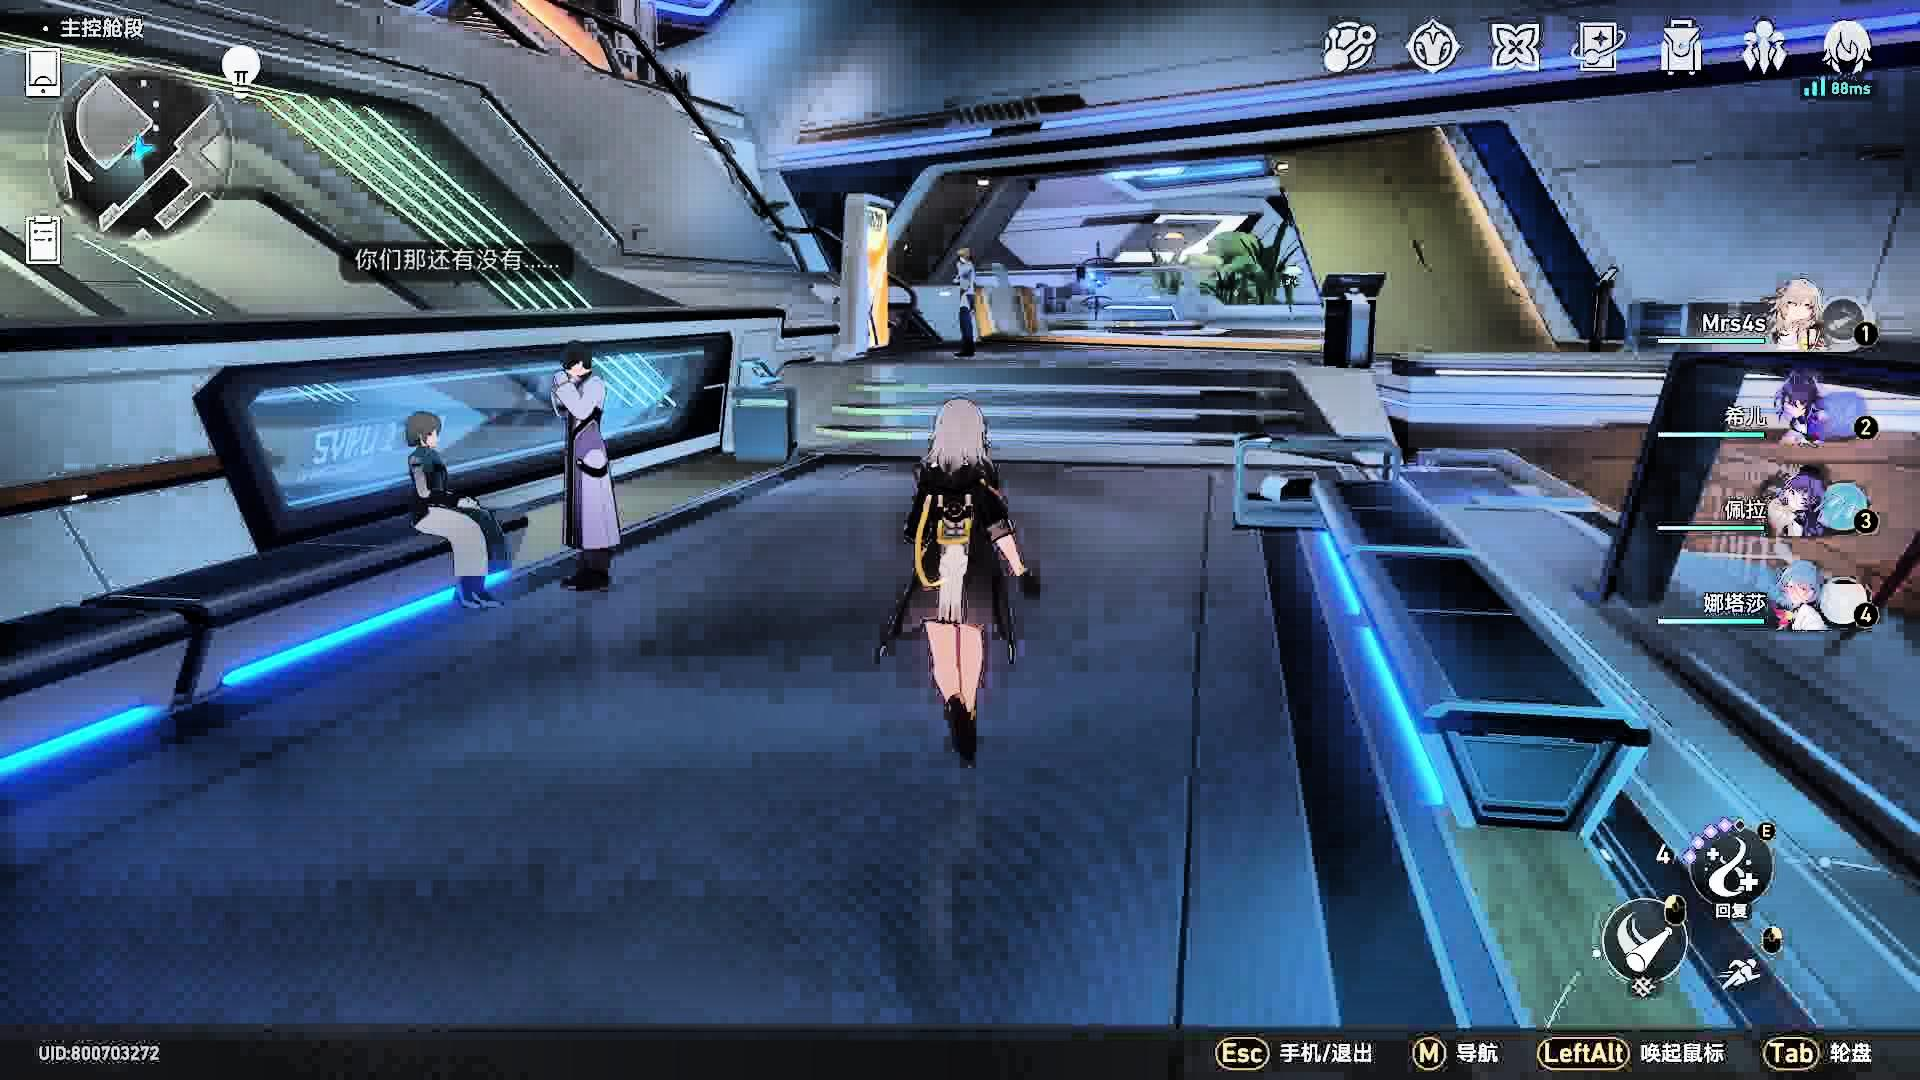Self: (891, 398, 1044, 771)
TeamMate: (400, 409, 512, 611), (553, 338, 625, 596), (949, 243, 978, 357)
